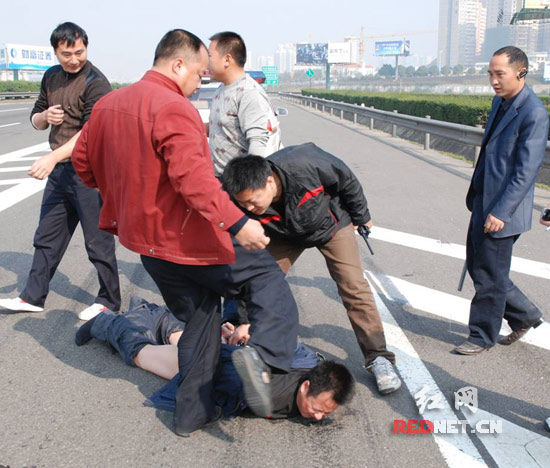fall: (59, 278, 378, 431)
